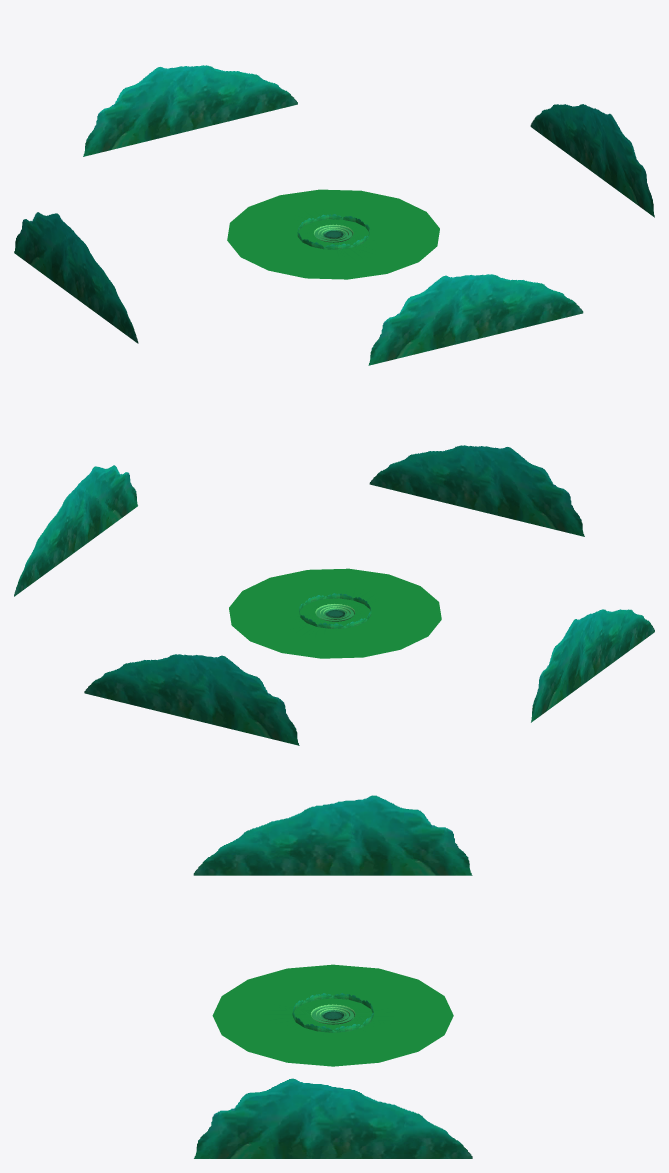
The model's file is FieldBattle.fbx.
3 renders of one model, top to bottom at view 1: azimuth 30°, elevation 25°; view 2: azimuth 150°, elevation 25°; view 3: azimuth 270°, elevation 25°, orthographic. The views are drawn at different scales.
Parts seen in each view (by area): view 1: PM2_BattleScene_Field_dasan, PM2_BattleScene_Field_caodi01; view 2: PM2_BattleScene_Field_dasan, PM2_BattleScene_Field_caodi01; view 3: PM2_BattleScene_Field_dasan, PM2_BattleScene_Field_caodi01.
Boxes of the visible parts, x1,y1,x2,y2 form: PM2_BattleScene_Field_dasan: [14, 65, 654, 365]; PM2_BattleScene_Field_caodi01: [227, 189, 439, 279]; PM2_BattleScene_Field_dasan: [14, 445, 654, 745]; PM2_BattleScene_Field_caodi01: [229, 568, 441, 658]; PM2_BattleScene_Field_dasan: [193, 795, 472, 1158]; PM2_BattleScene_Field_caodi01: [212, 964, 453, 1066].
Bounding box in the file's own units: 80.48 × 13.46 × 76.98.
